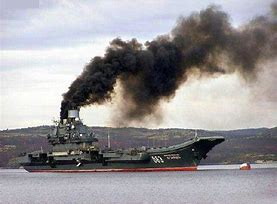smoke: (60, 1, 277, 109)
